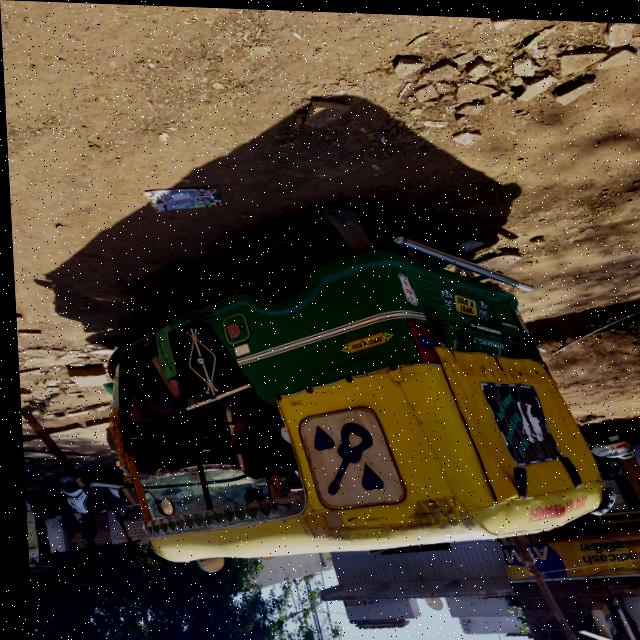plate: (344, 330, 382, 350), (450, 292, 475, 314)
